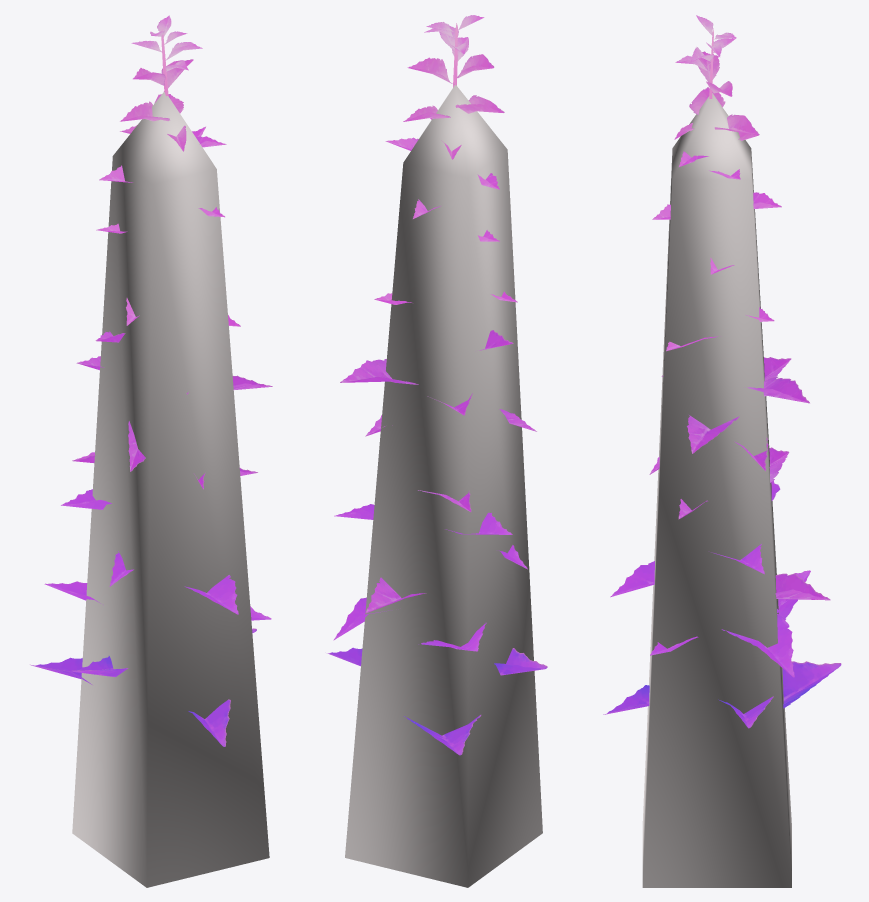
The model's file is Homeworld_Exterior_Dq_Plant_Flower_Fluorescence_01_Lod0.fbx.
3 renders of one model, left to right at view 1: azimuth 30°, elevation 25°; view 2: azimuth 150°, elevation 25°; view 3: azimuth 270°, elevation 25°, orthographic.
Visible parts, largest first — view 1: EffectMesh, Area_Dq_Grass_HZD_Zc_01_Lod0; view 2: EffectMesh, Area_Dq_Grass_HZD_Zc_01_Lod0; view 3: EffectMesh, Area_Dq_Grass_HZD_Zc_01_Lod0.
Boxes of the visible parts, x1,y1,x2,y2 form: EffectMesh: (72, 92, 269, 887); Area_Dq_Grass_HZD_Zc_01_Lod0: (30, 15, 272, 746); EffectMesh: (345, 85, 542, 887); Area_Dq_Grass_HZD_Zc_01_Lod0: (327, 15, 547, 755); EffectMesh: (642, 93, 791, 887); Area_Dq_Grass_HZD_Zc_01_Lod0: (603, 15, 841, 728).
Bounding box in the file's own units: 0.4589 × 1.57 × 0.4565.
